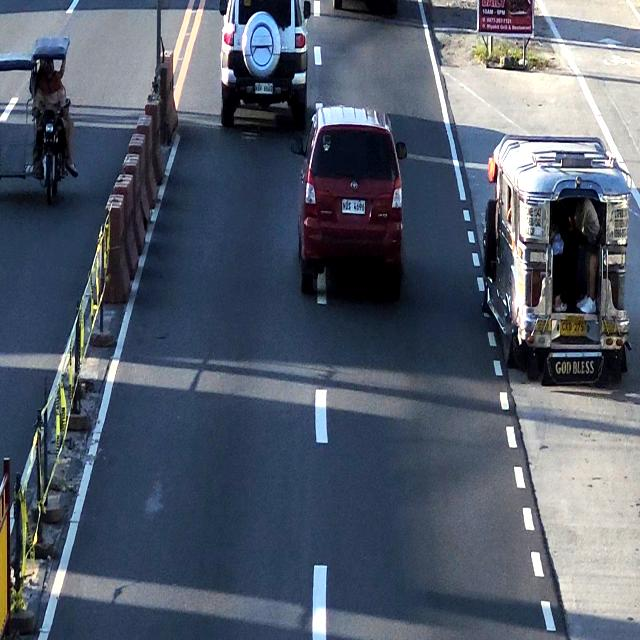Car: (296, 107, 396, 296), (221, 0, 308, 124)
Jeep: (481, 140, 630, 378)
License-Plate: (558, 318, 586, 340), (338, 198, 367, 218), (252, 80, 273, 96)
